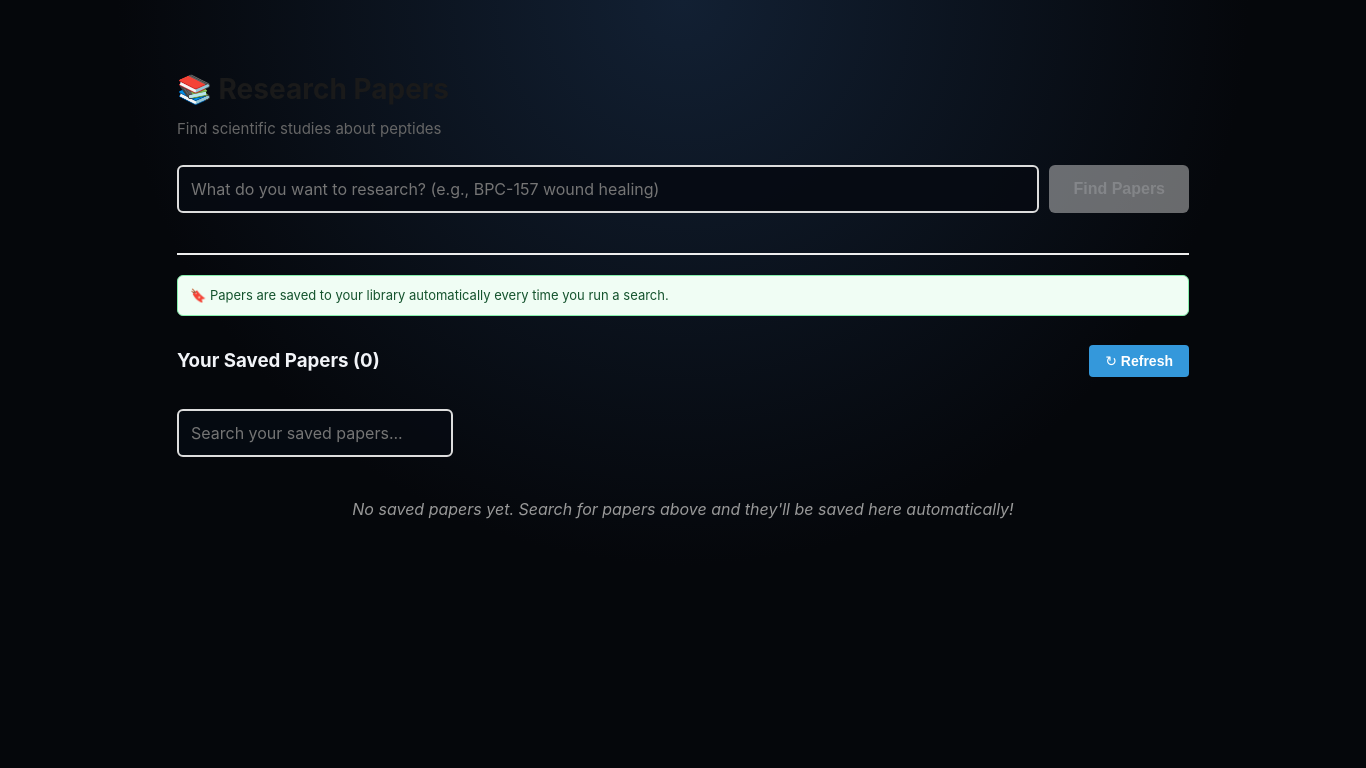
Test case: LiteratureSearch Component › enables search button when query is not empty
Type "BPC-157" into the field with id "literature-search-input" at (608, 188), box 177,164 -> 1039,212
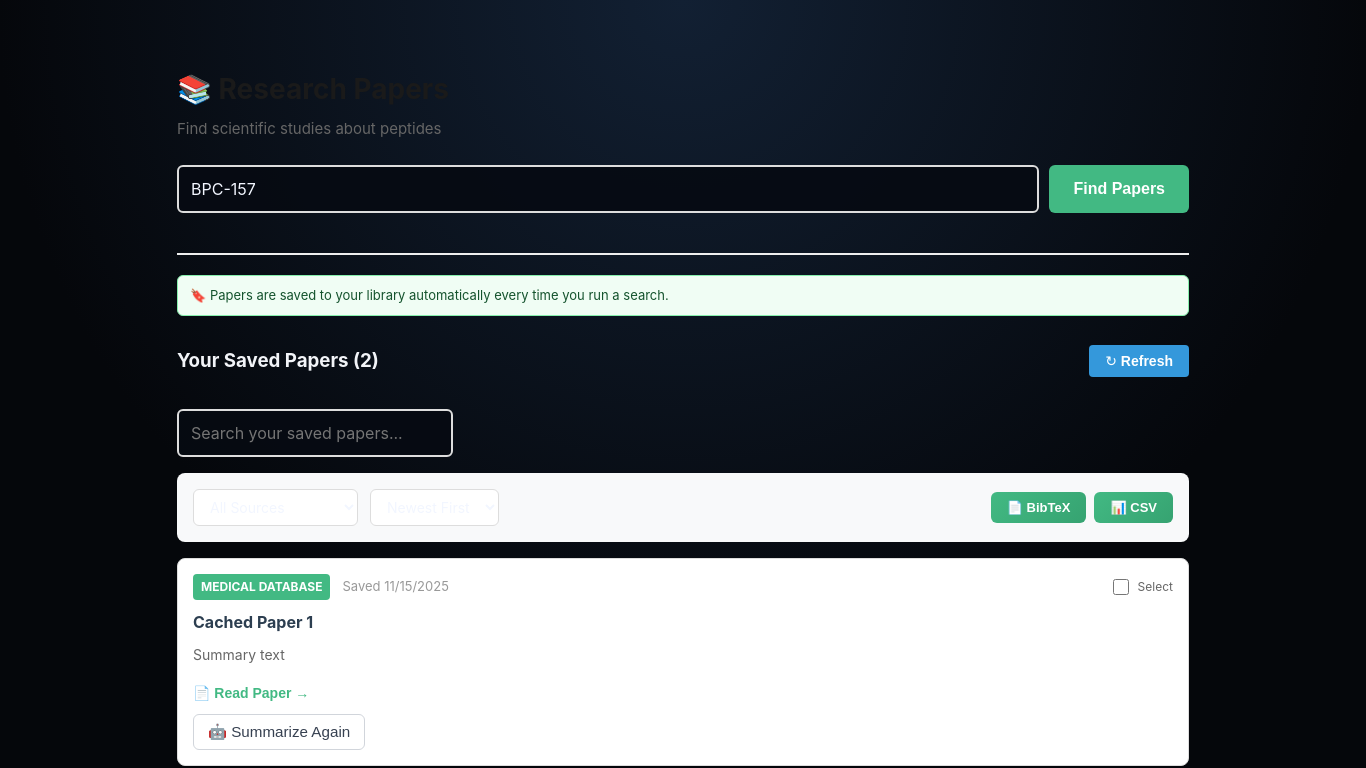
Now the button with class "search-btn" is enabled, box 1049,164 -> 1189,212
